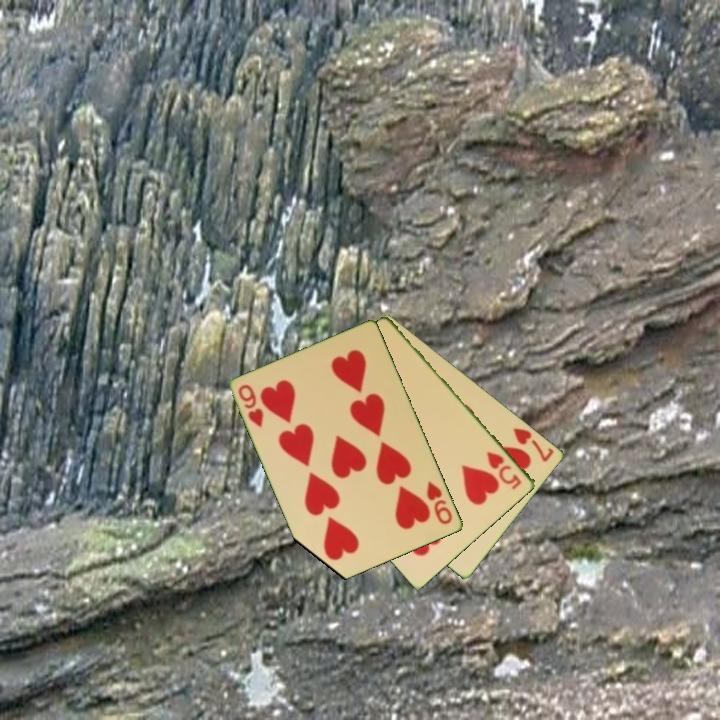5h: (483, 448, 525, 493)
7h: (510, 424, 557, 465)
9h: (423, 477, 455, 528), (235, 381, 267, 430)
